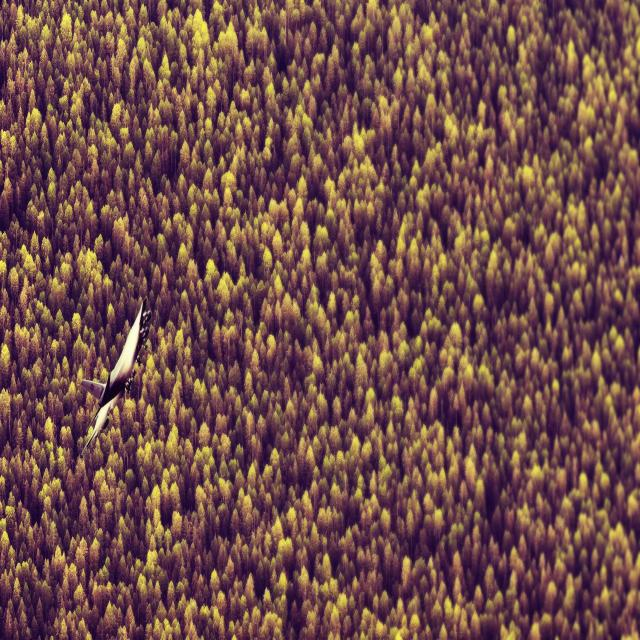airplane: (79, 296, 152, 454)
